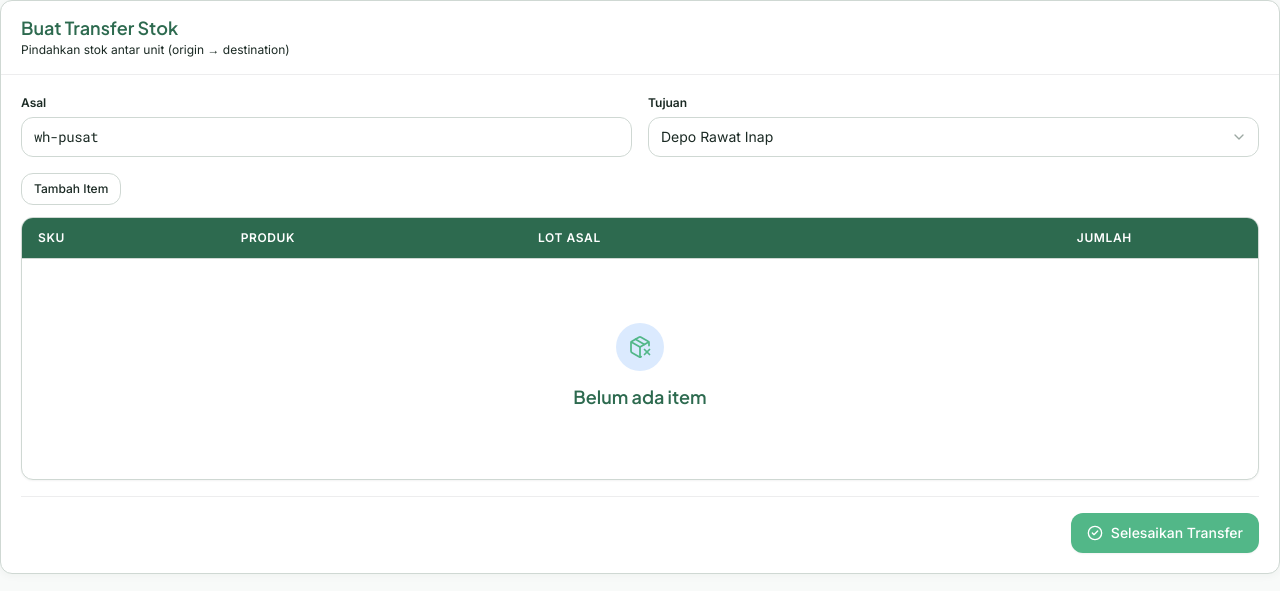
Test case: TransferNew › requires a source lot for each item
The image size is (1280, 591).
Step 1. Click the button "Tambah Item" → (71, 188), box [21,172,121,204]
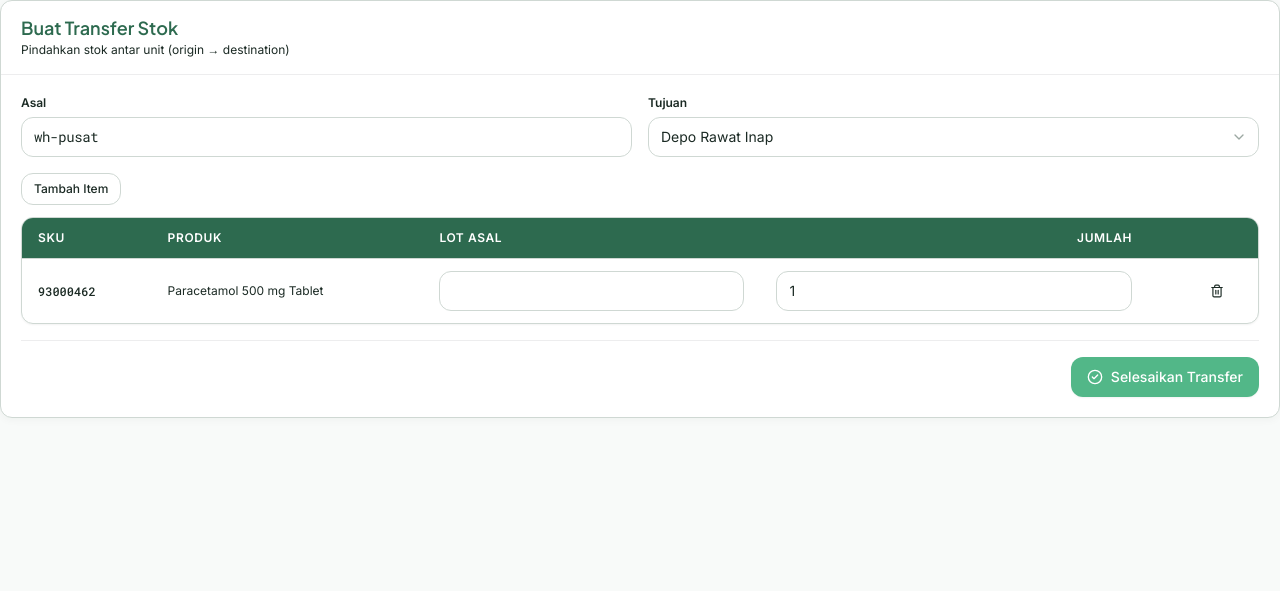
Expected: the text "Paracetamol 500 mg Tablet" is shown, [152,258,423,322]
Step 2. Click the button "Selesaikan Transfer" → (1165, 376), box [1071,356,1259,396]
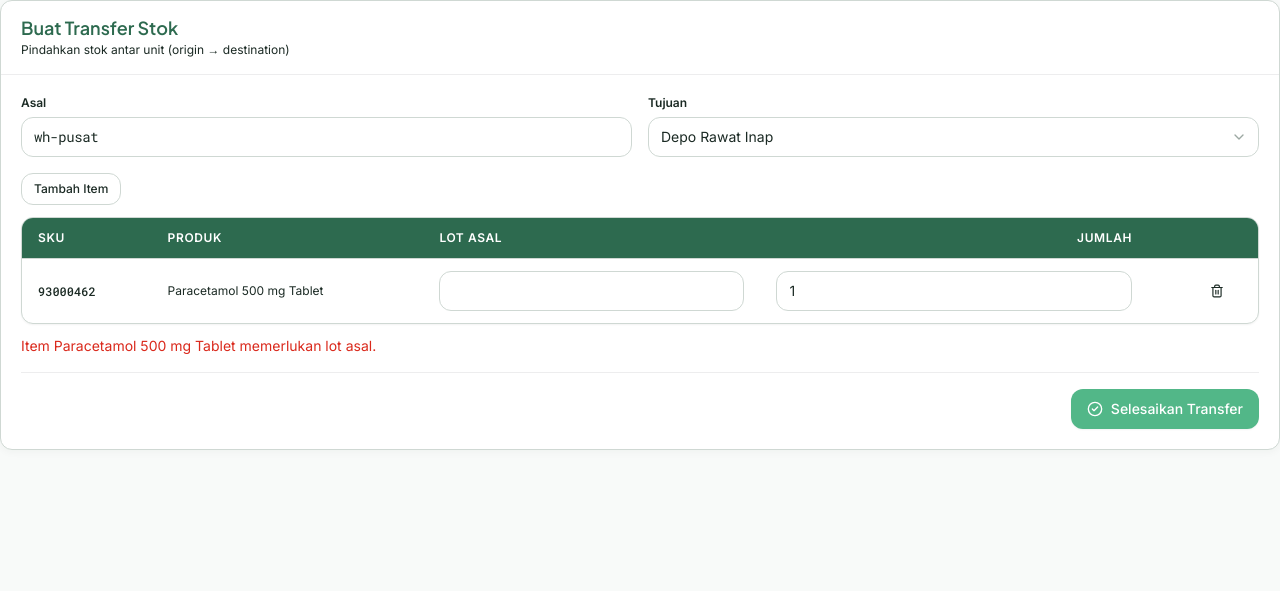
Expected: the message "Item Paracetamol 500 mg Tablet memerlukan lot asal." is shown, [21,336,376,354]
